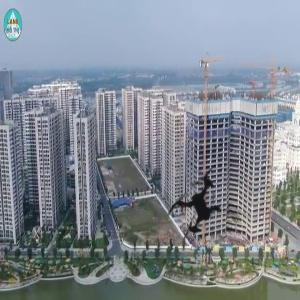drone: (143, 150, 254, 261)
